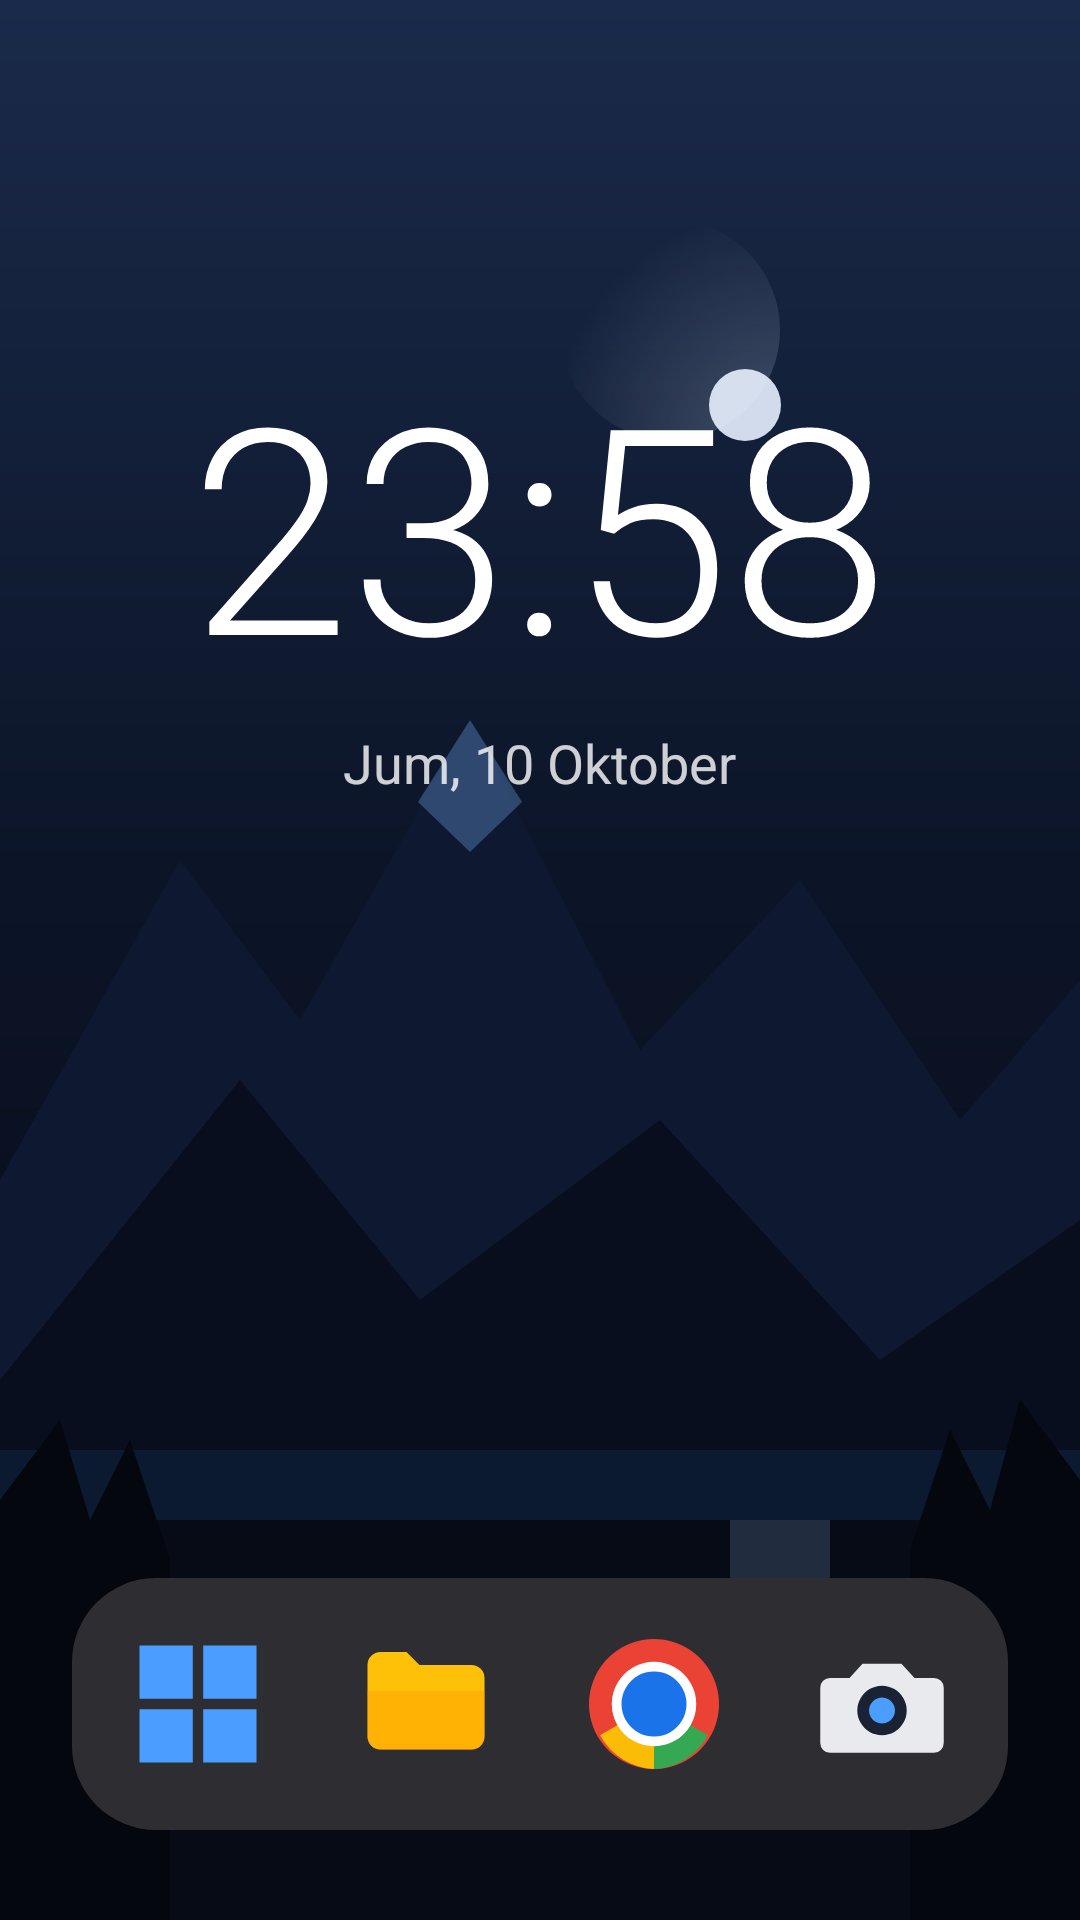

Point at icon controls on the screen. Image size 1080 × 1920, points as [x,y].
File: [426,1701]
Kamera: [882,1708]
